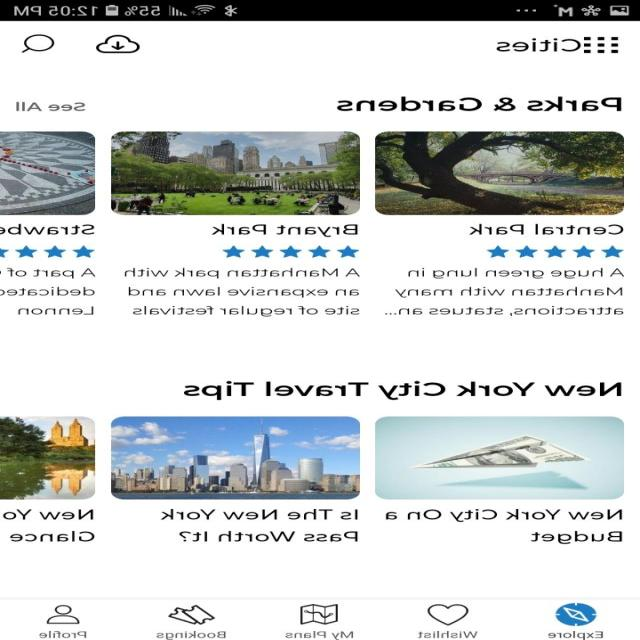Icon: (222, 245, 360, 258), (487, 245, 624, 258), (1, 245, 96, 258), (556, 602, 598, 626), (168, 604, 216, 624), (428, 603, 470, 625), (96, 34, 142, 54), (300, 603, 338, 624), (47, 604, 81, 624), (583, 36, 619, 54), (22, 34, 56, 53)
Image: (112, 131, 361, 215), (375, 131, 624, 215), (111, 416, 361, 499), (375, 416, 625, 499), (1, 131, 96, 215), (1, 416, 96, 499)
Text: (124, 267, 360, 317), (385, 268, 625, 316), (184, 380, 622, 400), (386, 508, 624, 544), (161, 508, 359, 541), (1, 267, 97, 315), (337, 96, 622, 112), (1, 509, 96, 541), (212, 224, 358, 237), (469, 224, 624, 234), (496, 38, 582, 52), (1, 224, 95, 234), (16, 102, 86, 111), (156, 630, 226, 639), (285, 630, 354, 639), (548, 630, 604, 639), (418, 630, 478, 638), (39, 630, 87, 638)
